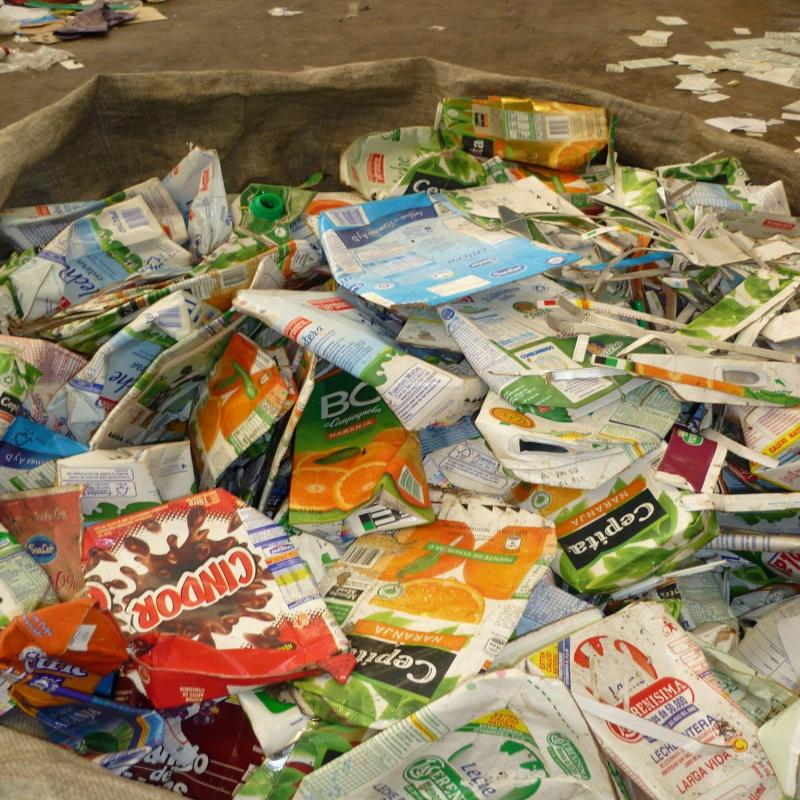uht carton: (83, 489, 357, 711), (306, 499, 559, 728), (526, 602, 784, 800), (278, 665, 614, 797), (232, 289, 490, 432), (317, 187, 582, 309), (438, 275, 648, 423), (0, 589, 164, 777), (514, 445, 720, 594), (86, 309, 286, 452), (288, 370, 435, 545), (67, 290, 223, 444), (9, 196, 196, 323), (474, 382, 681, 490), (190, 332, 298, 492), (0, 177, 189, 250), (435, 96, 608, 174), (56, 440, 196, 527), (0, 484, 88, 604), (339, 124, 448, 202), (161, 146, 233, 258)
